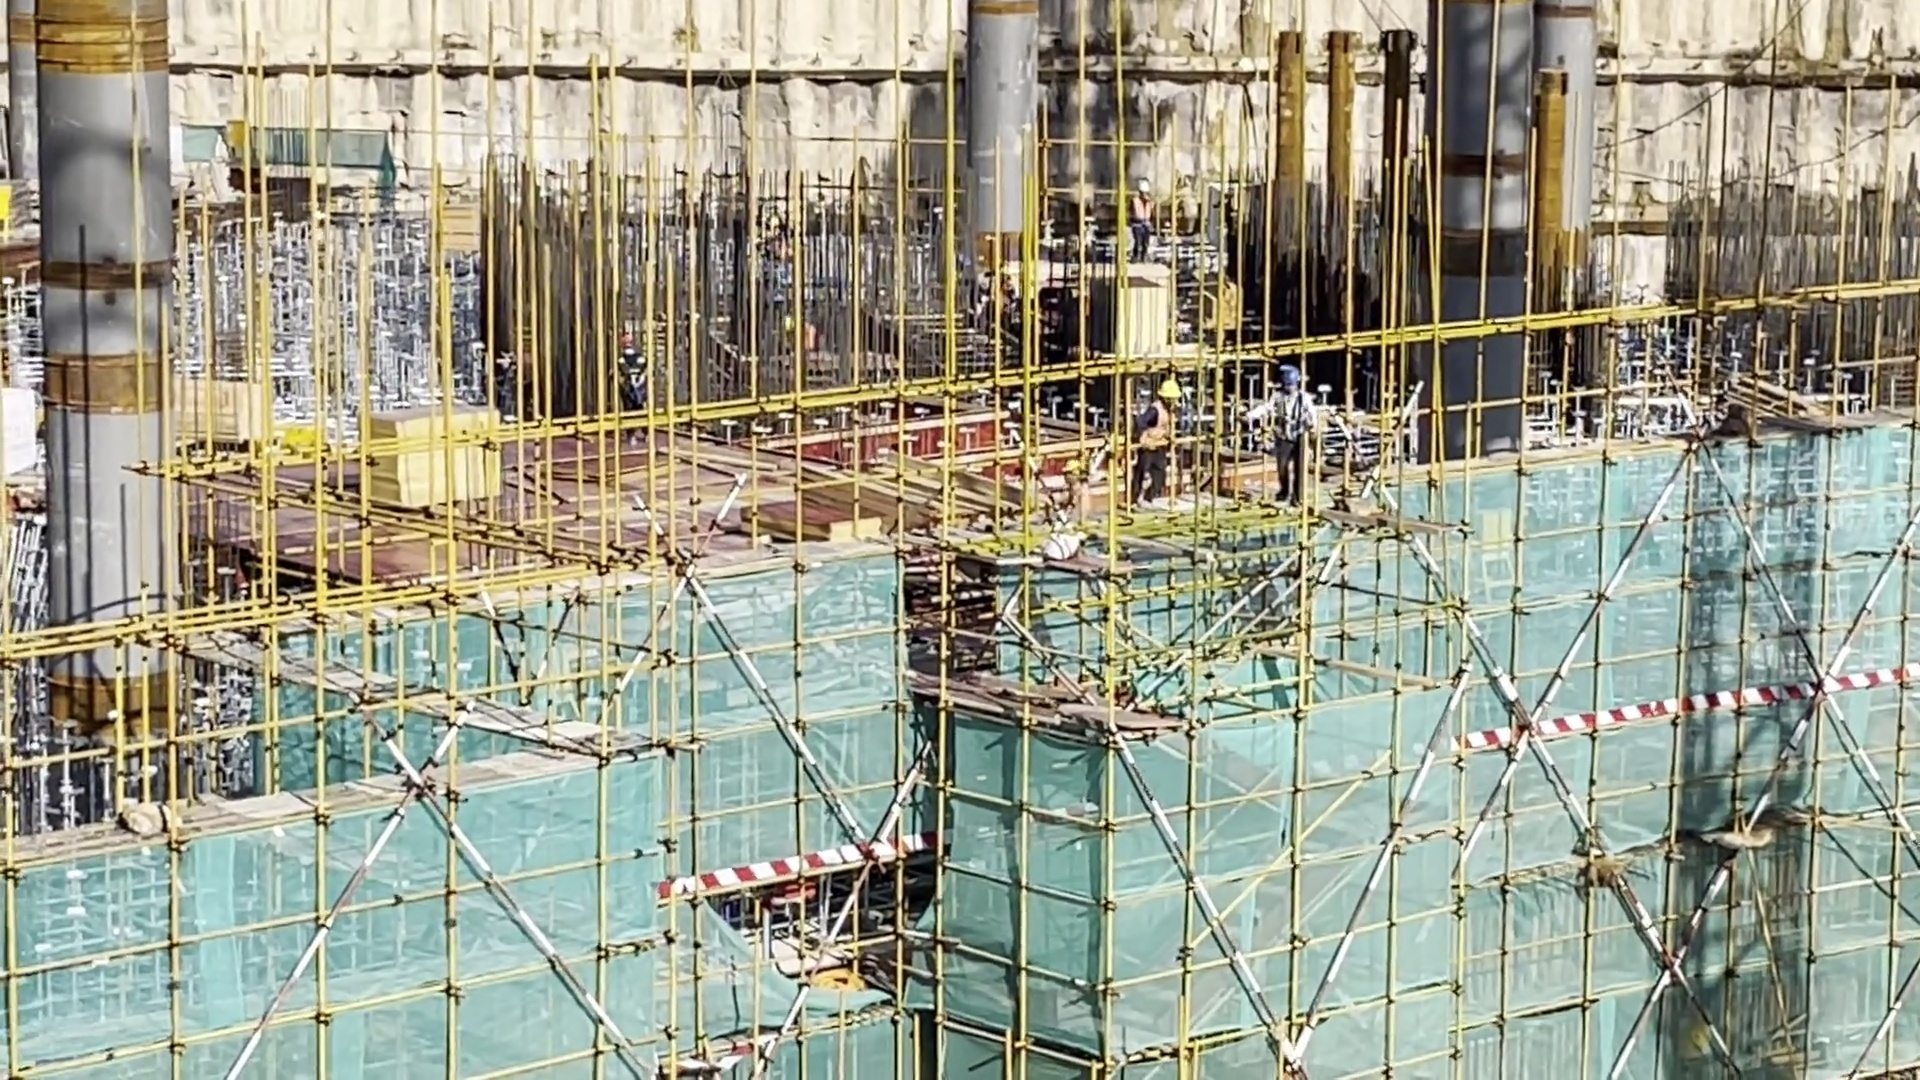helmet: (1284, 361, 1309, 397), (1151, 381, 1191, 403), (621, 331, 644, 358), (979, 270, 998, 289), (1134, 179, 1151, 201), (780, 313, 797, 335), (470, 342, 483, 361), (761, 214, 781, 226)
person: (1261, 364, 1318, 504), (611, 332, 655, 456), (475, 338, 520, 422), (1147, 369, 1172, 504), (975, 255, 1019, 328), (759, 210, 794, 292), (768, 308, 812, 355), (1132, 175, 1152, 257)
vest: (1263, 394, 1303, 437), (618, 356, 658, 394), (1139, 407, 1169, 459), (491, 343, 523, 385), (796, 312, 826, 352), (993, 280, 1010, 316), (1133, 197, 1153, 224), (775, 236, 794, 264)
